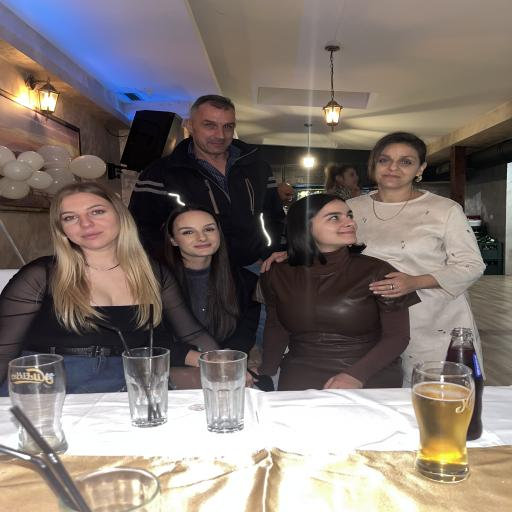marija: (174, 210, 222, 257)
